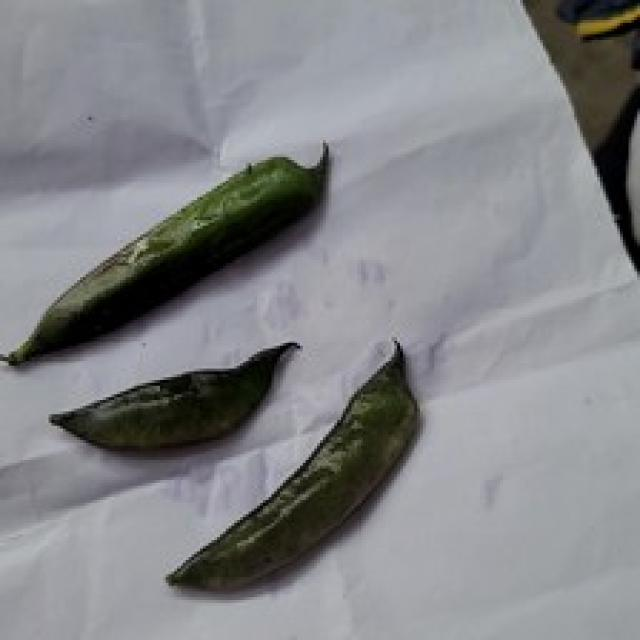Bean: (0, 137, 329, 366), (163, 334, 420, 592), (46, 337, 300, 452)
